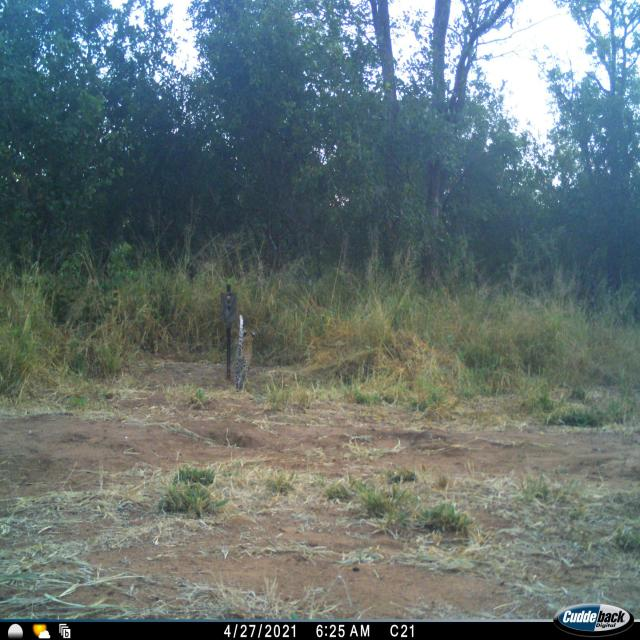Leopard: (232, 311, 256, 391)
